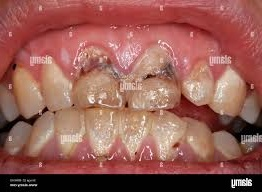Caries: (134, 61, 177, 86), (80, 54, 118, 74)
